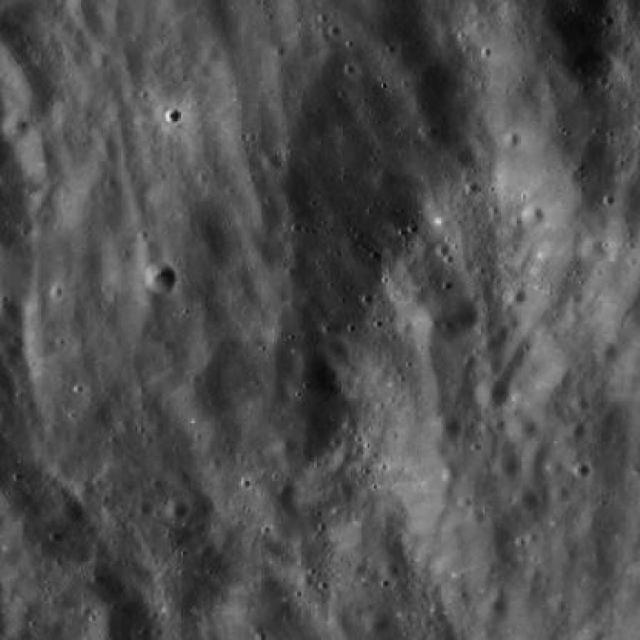crater: (494, 114, 610, 229), (0, 483, 102, 597), (330, 488, 408, 566), (74, 557, 120, 603), (414, 299, 460, 344), (252, 478, 294, 520), (15, 131, 56, 171), (194, 227, 234, 267), (264, 503, 304, 542), (440, 293, 478, 332), (578, 504, 616, 541), (13, 66, 50, 102), (0, 42, 34, 78), (478, 378, 510, 410), (432, 410, 463, 441), (146, 262, 177, 293), (506, 412, 536, 443), (20, 92, 51, 120), (4, 112, 32, 140), (480, 596, 506, 622), (494, 450, 520, 476), (136, 238, 162, 264), (513, 486, 538, 512), (450, 144, 473, 167), (582, 240, 606, 262), (364, 609, 387, 631), (165, 496, 188, 518), (522, 205, 544, 228), (274, 435, 296, 457), (201, 42, 222, 64), (598, 342, 620, 362), (0, 299, 18, 323), (97, 138, 117, 158), (507, 285, 525, 304), (398, 256, 416, 275), (378, 560, 396, 578), (264, 154, 282, 171), (502, 130, 520, 147), (549, 596, 566, 613), (552, 484, 568, 502), (574, 460, 590, 476), (568, 421, 584, 437), (431, 440, 446, 456), (548, 460, 564, 474), (336, 448, 350, 463), (0, 1, 1, 2)
